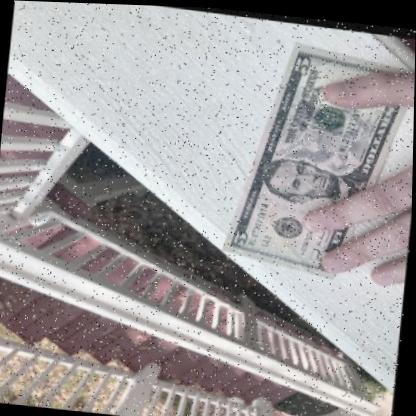dollar_front: (222, 38, 415, 274)
